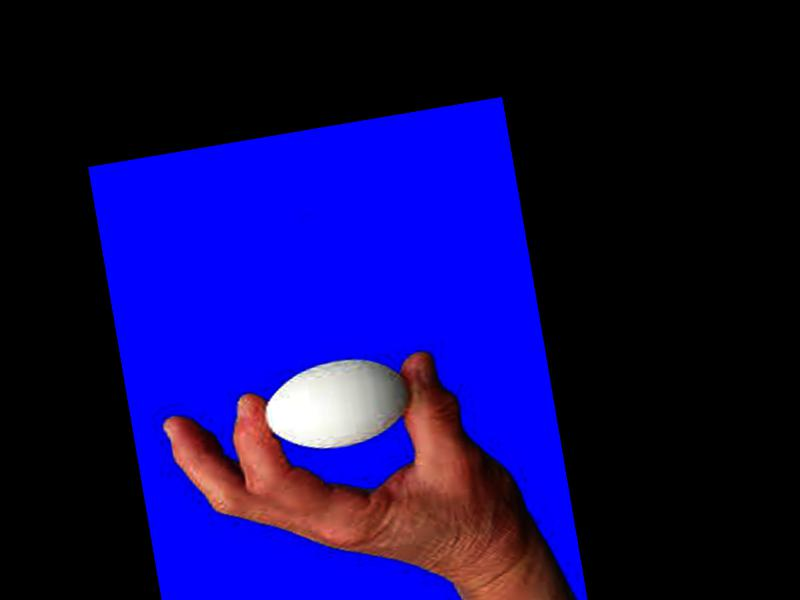Eggs: (255, 350, 415, 459)
